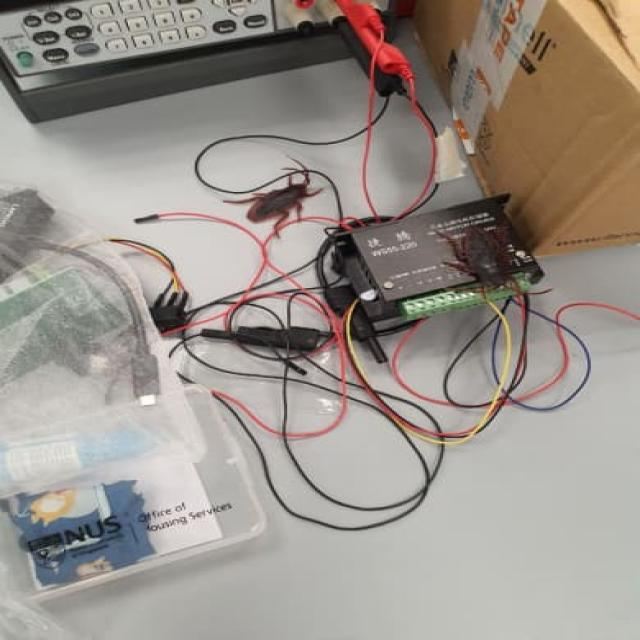Cockroach: (221, 160, 325, 233), (426, 222, 526, 296)
